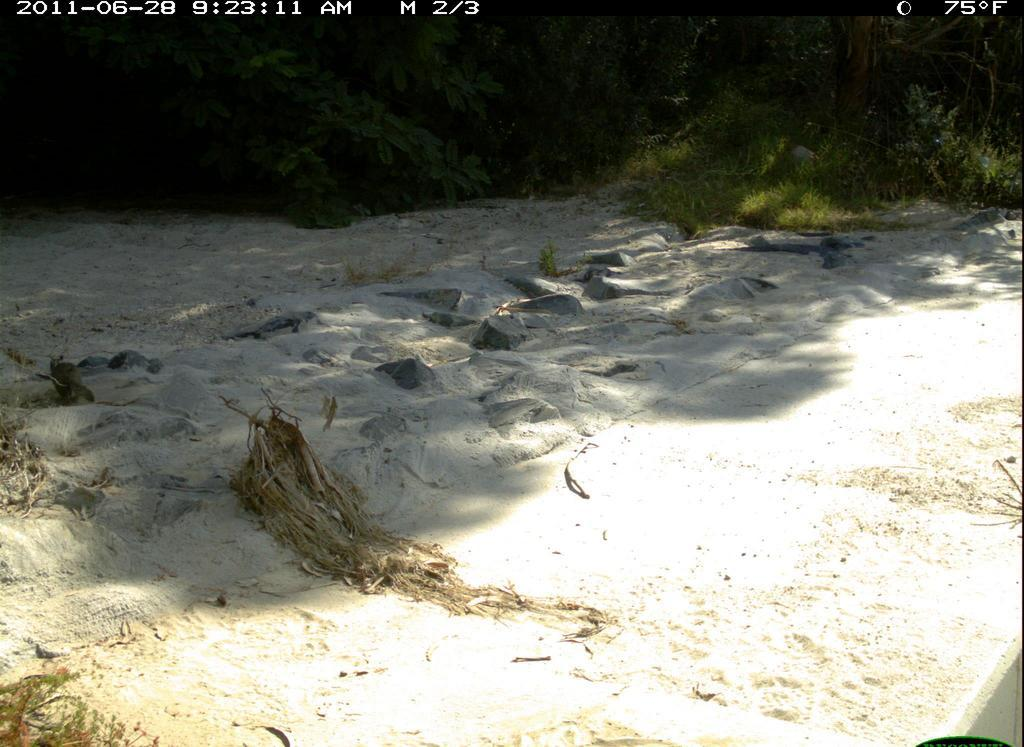squirrel: (47, 349, 107, 415)
